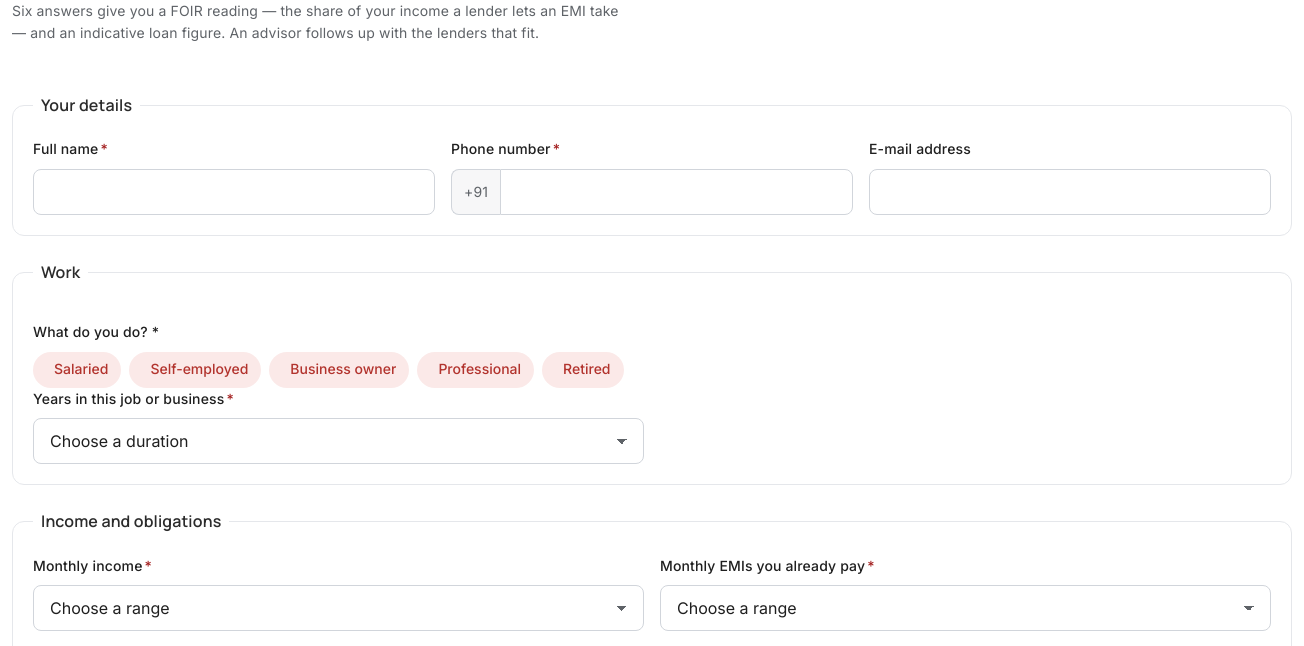
Scenario: <AssessmentForm> › shows the conditional fields only when they apply
Expected: the field labelled "months still to run" is not shown
Select "₹10,000 – ₹25,000" in the dropdown labelled "Monthly EMIs you already pay*": (966, 608) left=660, top=585, right=1271, bottom=631
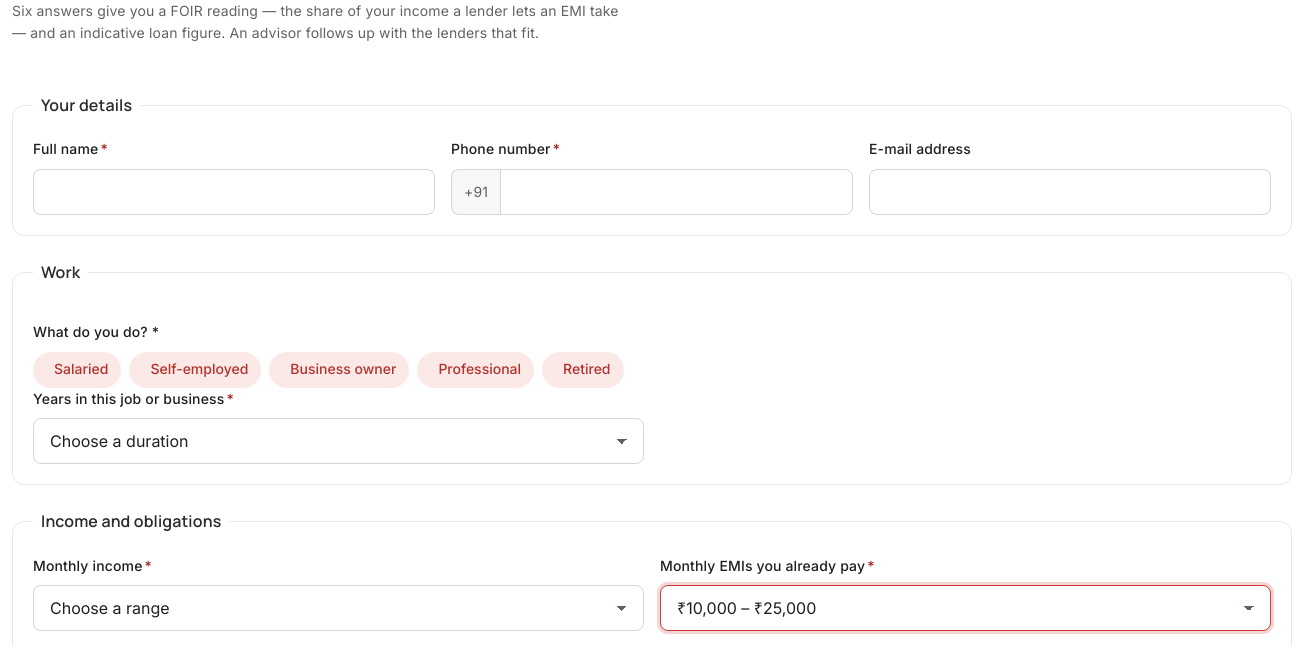
Choosing "no existing EMIs" takes the tenure question away again.
Select "No existing EMIs" in the dropdown labelled "Monthly EMIs you already pay*": (966, 608) left=660, top=585, right=1271, bottom=631
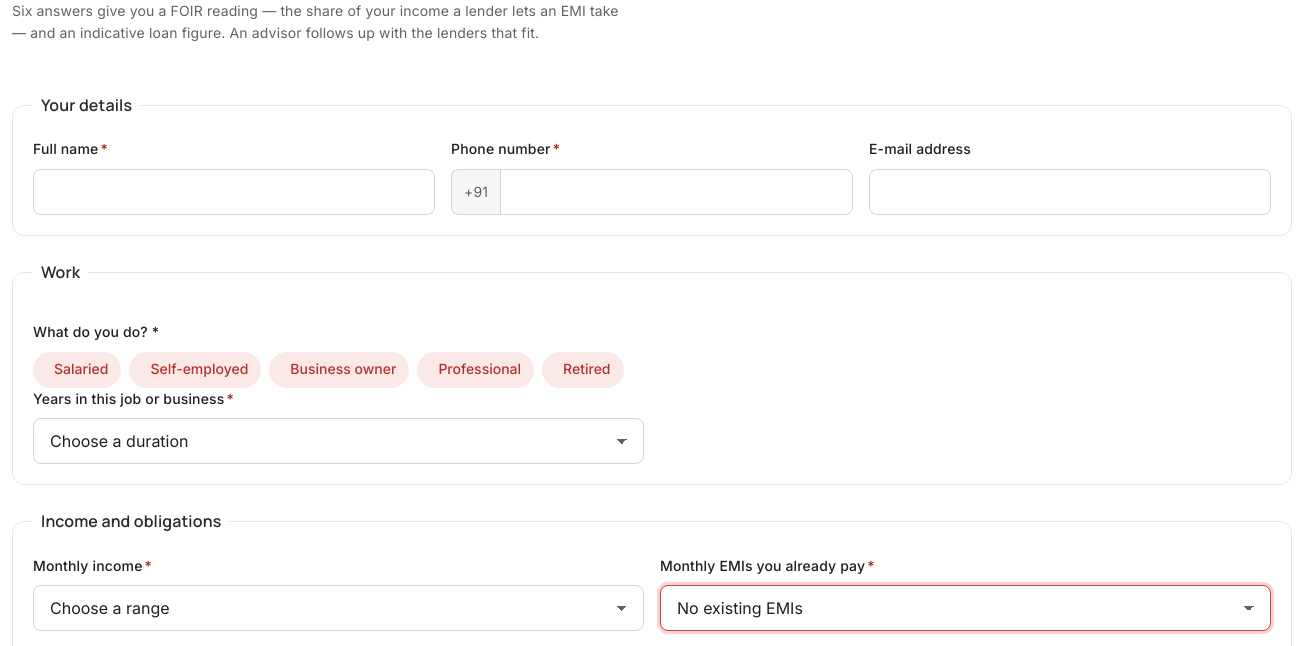
Expected: the field labelled "your monthly income" is not shown
Select "Enter an exact amount" in the dropdown labelled "Monthly income*": (338, 608) left=33, top=585, right=644, bottom=631
(page scrolled)
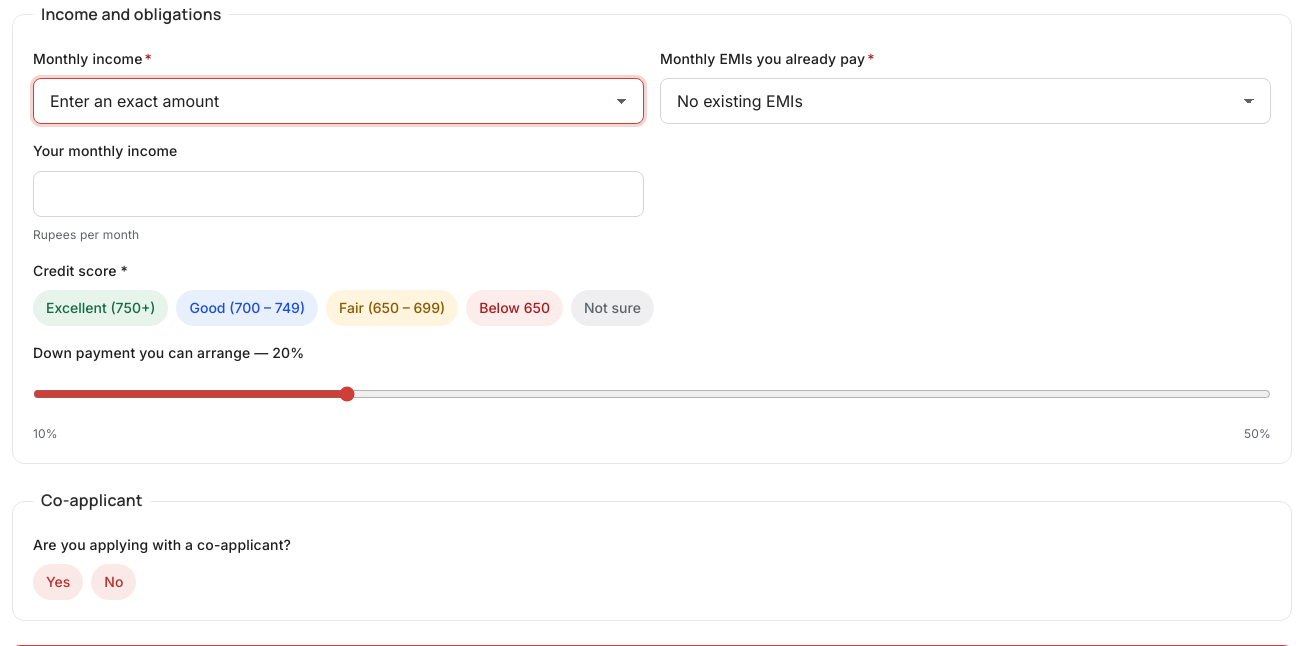
Expected: the field labelled "co-applicant’s monthly income" is not shown
Result: the number field labelled "Your monthly income" is shown at left=33, top=170, right=644, bottom=216
Click the button "Yes": (58, 582) left=33, top=564, right=83, bottom=600
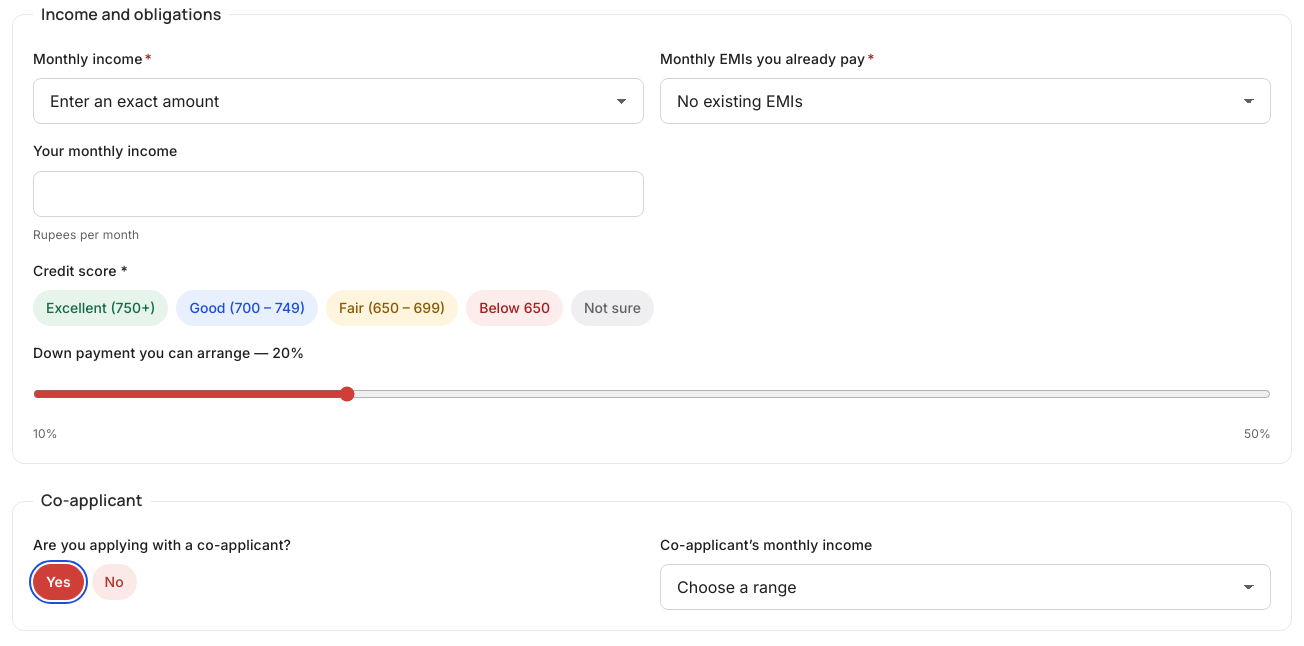
Result: the dropdown labelled "Co-applicant’s monthly income" is shown at left=660, top=564, right=1271, bottom=610
